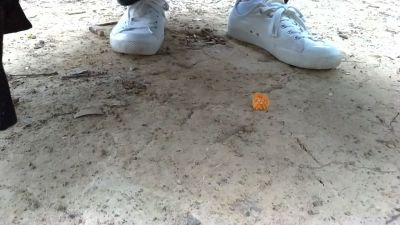eggs: (250, 90, 271, 114)
